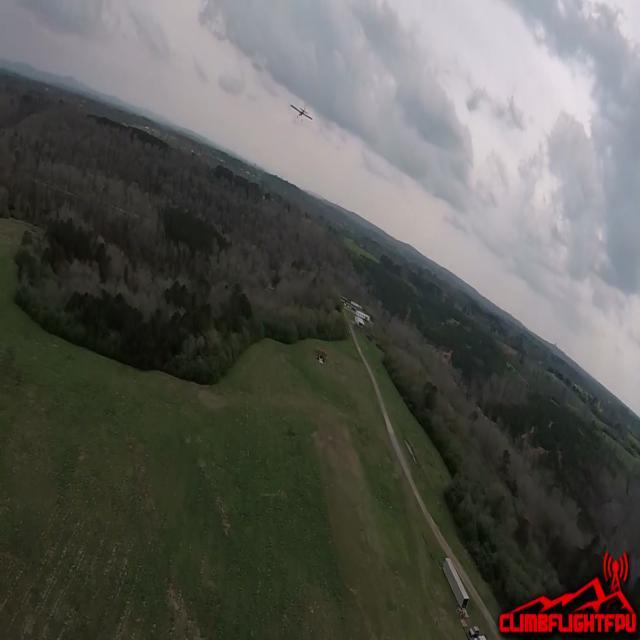iha: (285, 34, 316, 65)
